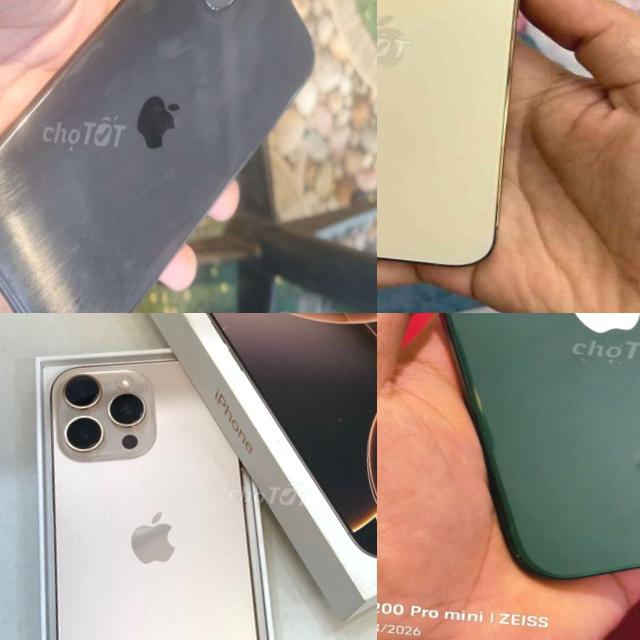gen_11: (0, 0, 313, 313)
gen_12_13: (377, 313, 640, 604), (377, 0, 549, 278)
gen_16: (20, 346, 310, 640)
